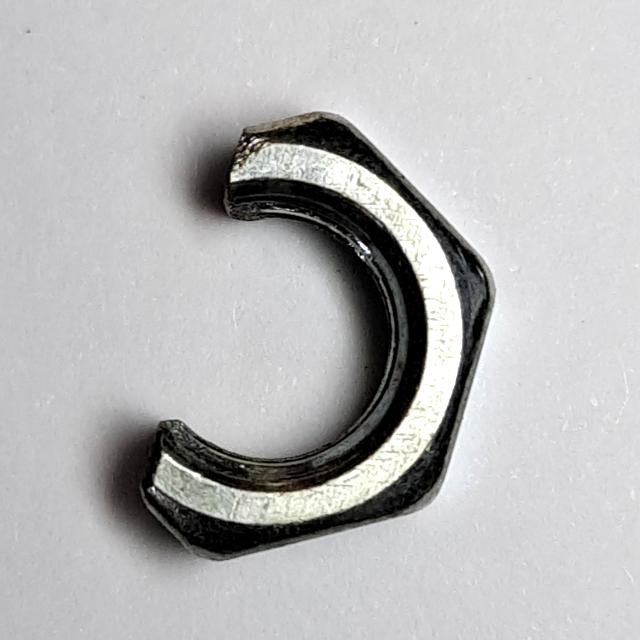Fracture: (126, 100, 510, 573)
